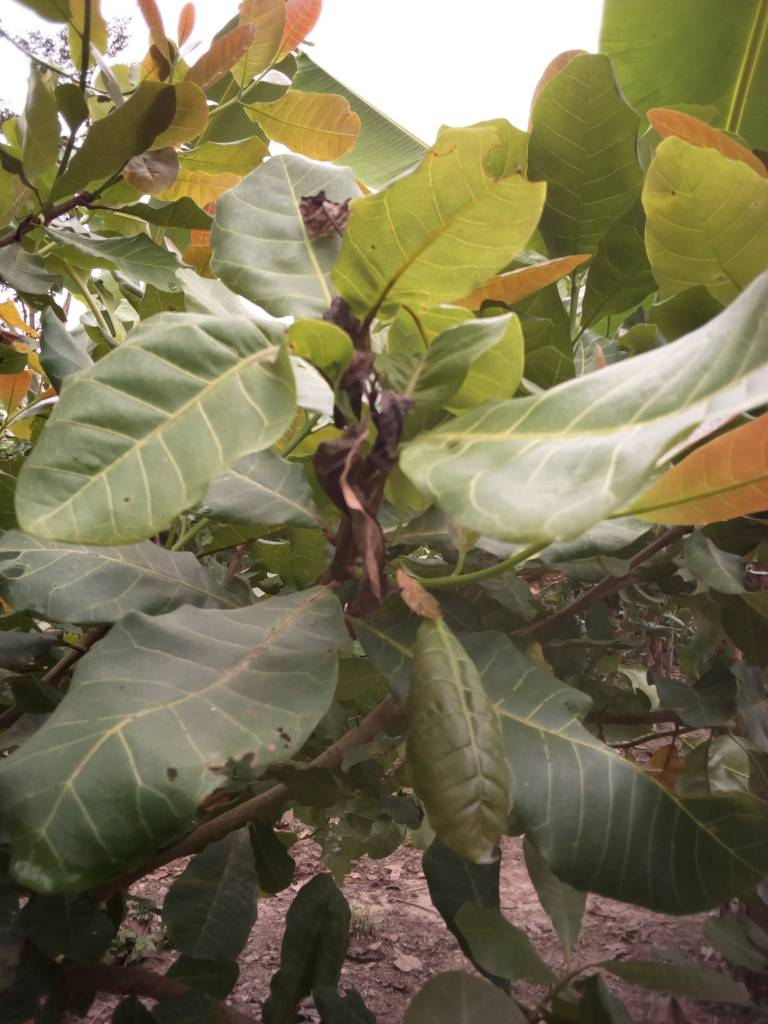Dessèchement des bourgeons: (319, 375, 402, 617)
